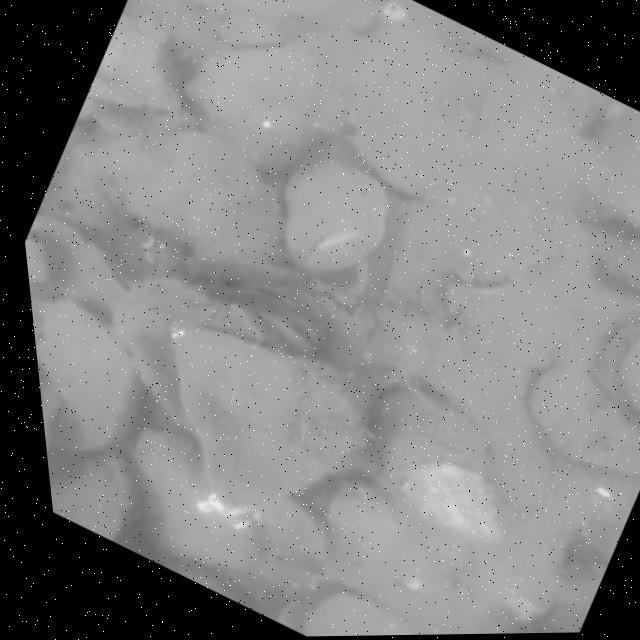Oyster-Closed: (50, 453, 131, 541)
Oyster-Indeterminate: (166, 316, 374, 510), (136, 427, 335, 582), (110, 123, 292, 262), (372, 374, 499, 539), (35, 294, 150, 453), (188, 48, 322, 176), (524, 341, 640, 474), (281, 159, 389, 278), (87, 11, 178, 113), (578, 104, 640, 229), (301, 587, 425, 636), (620, 333, 640, 416)
